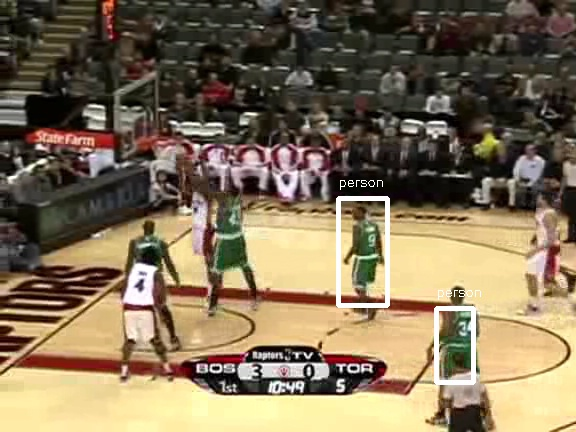person: (352, 213, 386, 294), (351, 213, 385, 294), (353, 213, 387, 294), (352, 212, 386, 293), (352, 214, 386, 295)
target_negative: (469, 78, 546, 218), (261, 55, 294, 351), (208, 369, 246, 400), (164, 380, 208, 403), (496, 158, 558, 161), (380, 79, 383, 121)
